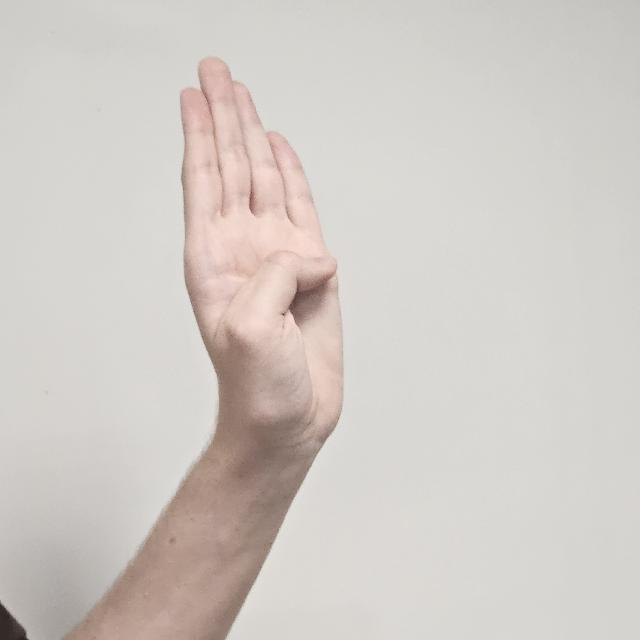Baixo: (182, 55, 344, 477)
